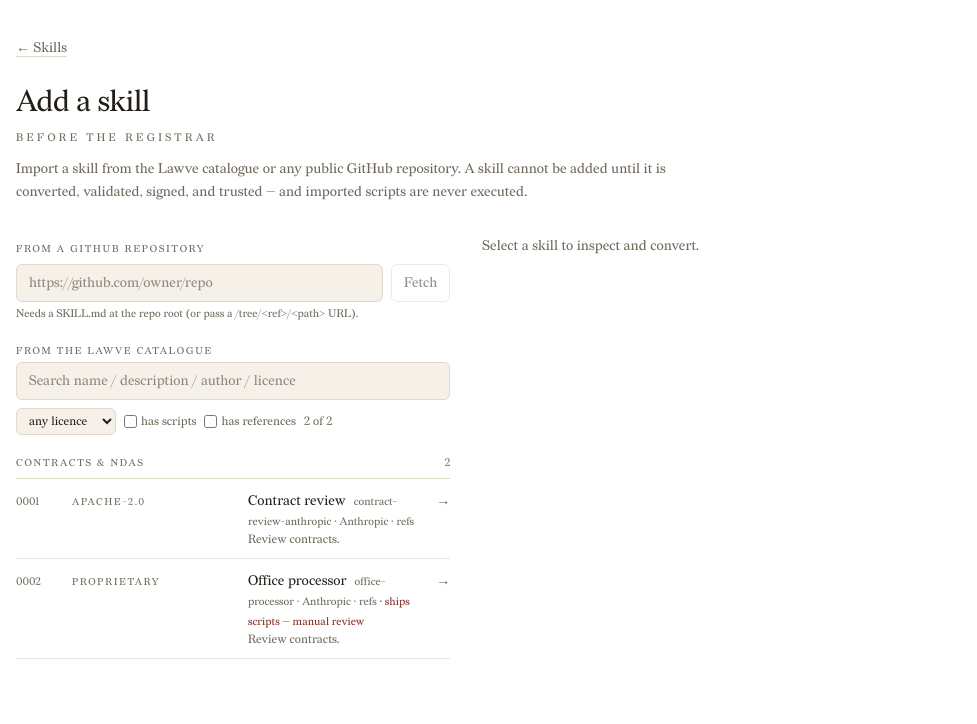
Test case: LawveImport › converts a prompt-only skill to a valid draft (Ready to sign, add CTA for admins)
Click the button with test id "lawve-card-contract-review-anthropic" at (233, 519), box [16,478,450,559]
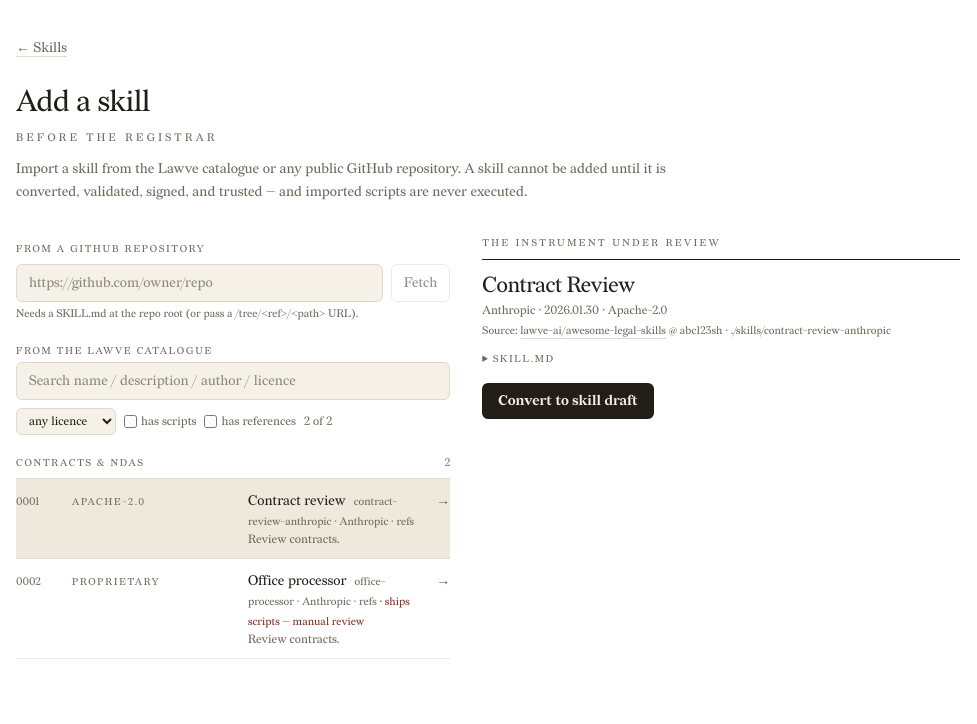
Expected: the button with test id "convert-draft" is shown
Click the button with test id "convert-draft" at (568, 400), box [482,382,654,418]
(page scrolled)
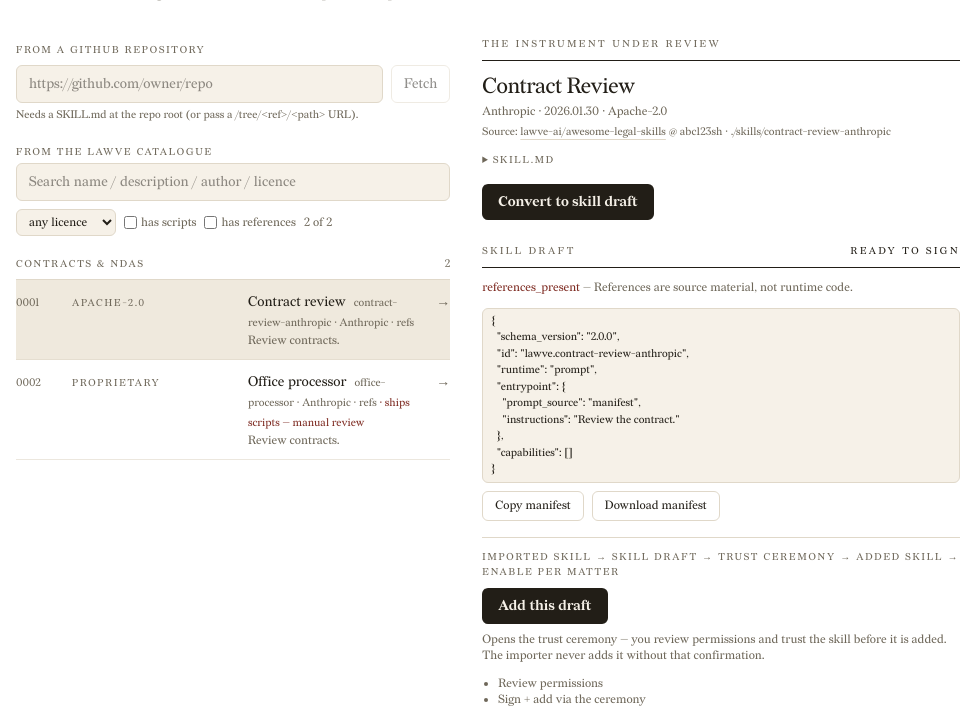
Expected: the element with test id "draft-review" is shown, [482,244,960,708]
Expected: the text with test id "draft-trust-state" reads "Ready to sign", [850,244,960,256]
Expected: the element with test id "draft-review" shows "\"runtime\": \"prompt\"", [491,314,689,475]
